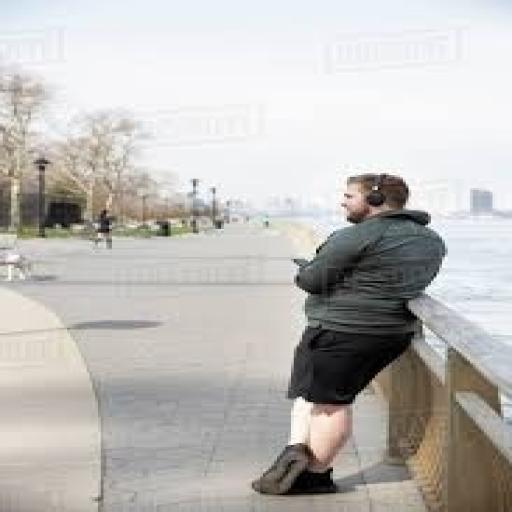listening_to_music: (246, 171, 450, 497)
